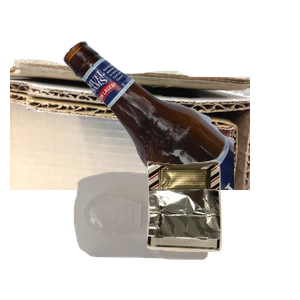cardboard: (10, 57, 250, 237)
glass: (60, 38, 300, 218)
plastic: (71, 169, 275, 300)
trash: (144, 158, 300, 300)
